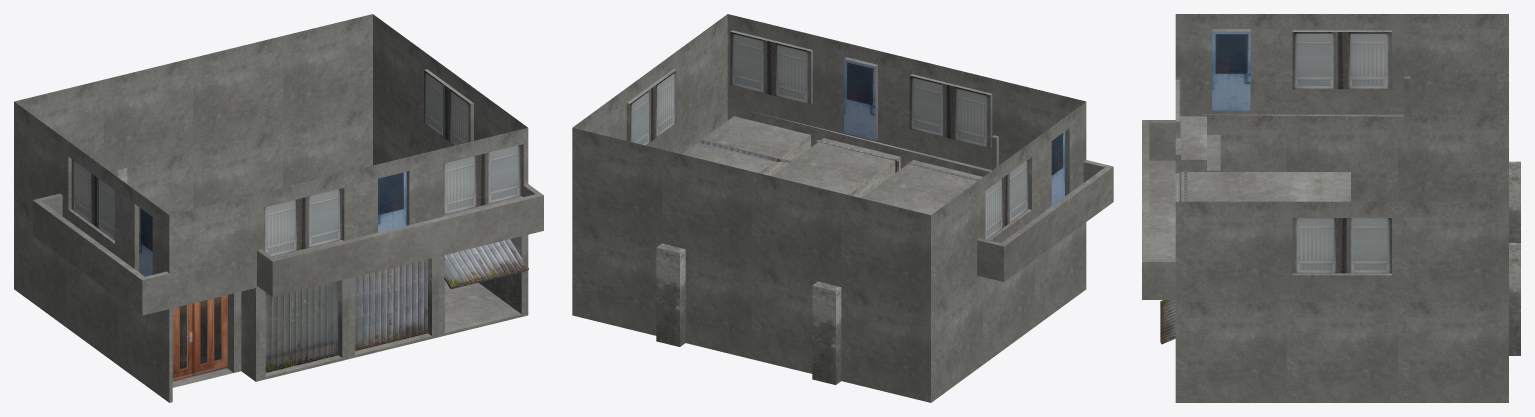
File: building_5.fbx
3 renders of one model, left to right at view 1: azimuth 30°, elevation 25°; view 2: azimuth 150°, elevation 25°; view 3: azimuth 270°, elevation 25°, orthographic. The views are drawn at different scales.
Parts seen in each view (by area): view 1: building_5; view 2: building_5; view 3: building_5.
Part boxes in pixels (left/top/right/bottom): building_5: left=14, top=14, right=543, bottom=402; building_5: left=572, top=14, right=1113, bottom=402; building_5: left=1142, top=14, right=1520, bottom=402.
Size of the model in its own units: 1420 by 660 by 1126.
